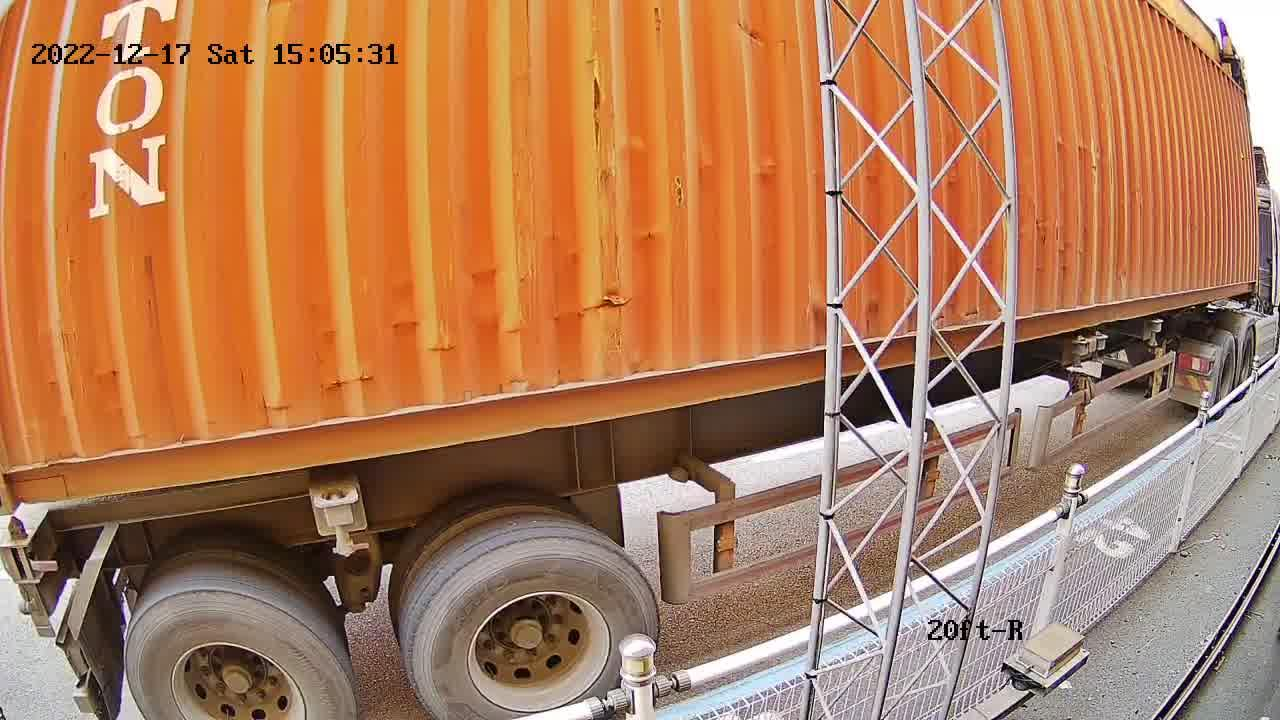Cone: (0, 515, 47, 588)
Tire: (410, 536, 657, 719), (127, 594, 357, 719)
